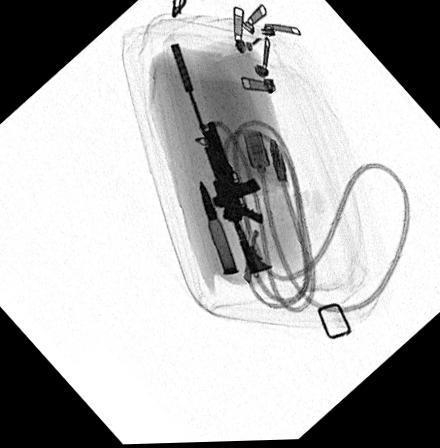Bullet: (196, 180, 238, 277)
Gun: (169, 45, 272, 277)
